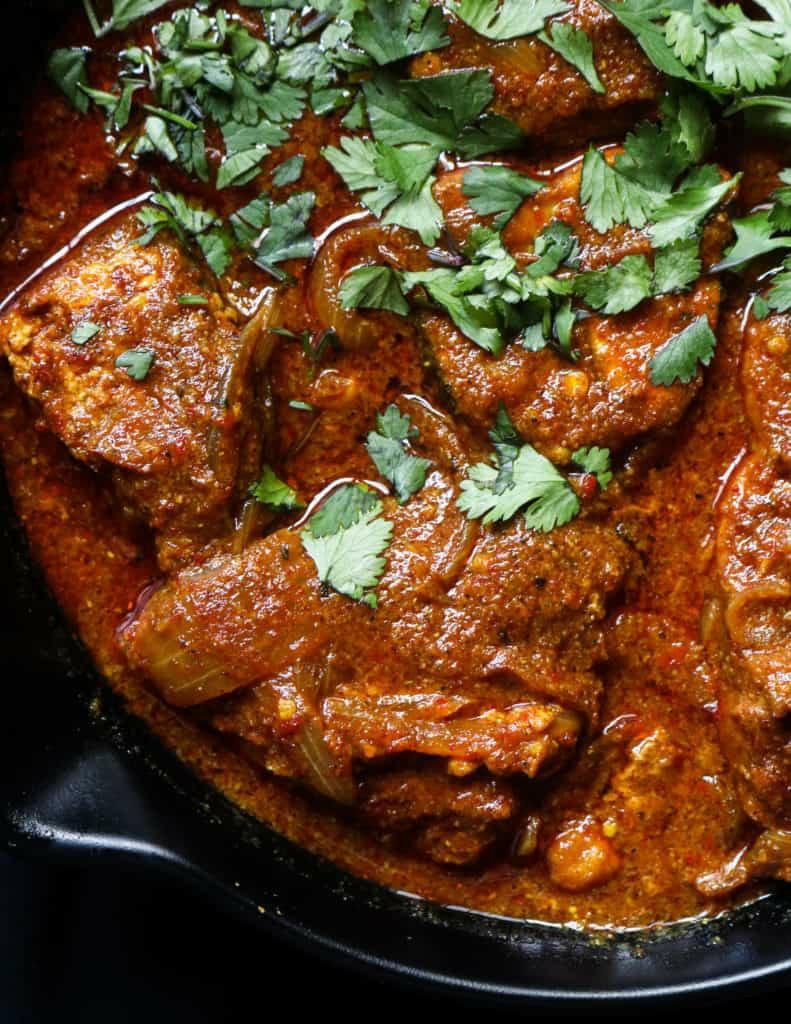FishCurry: (0, 0, 791, 930)
